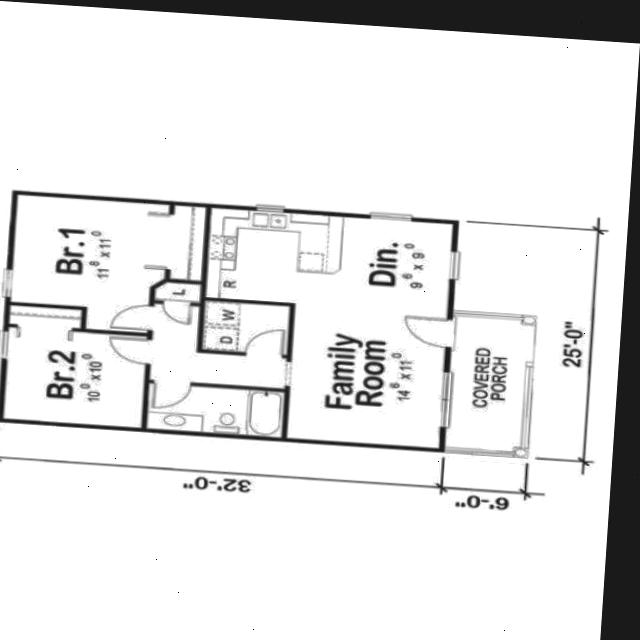room: (146, 204, 453, 447), (9, 194, 205, 335), (3, 305, 148, 427), (147, 383, 283, 436), (204, 301, 290, 354)
